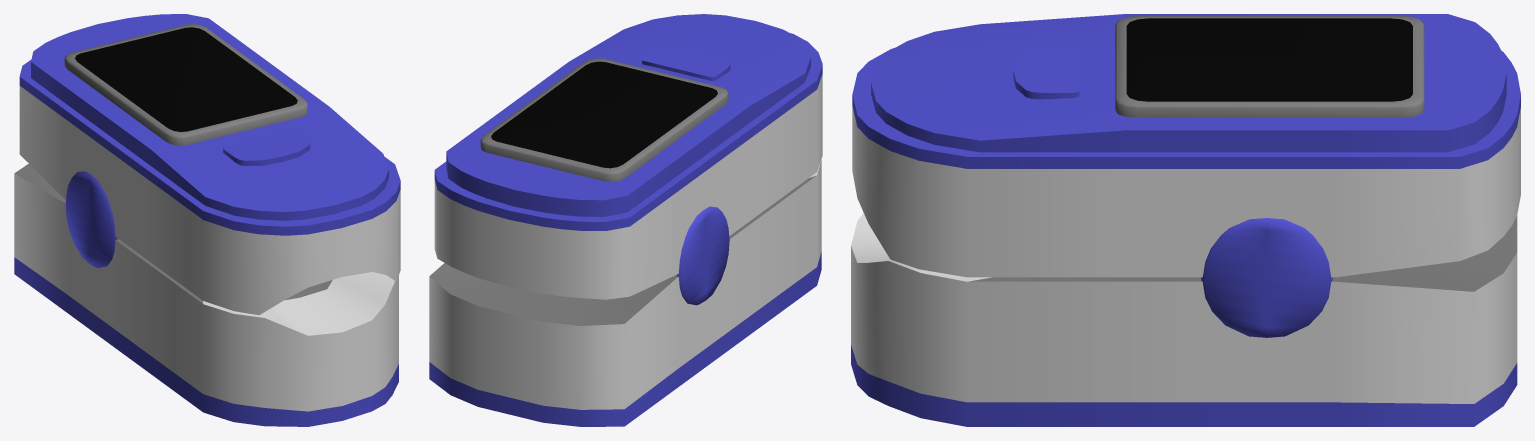
File: Model_Pulsioximetro.fbx
3 views of the same model, side by side, from view 1: azimuth 30°, elevation 25°; view 2: azimuth 150°, elevation 25°; view 3: azimuth 270°, elevation 25° (orthographic). The views are drawn at different scales.
Parts seen in each view (by area): view 1: Model_Pulsi_Top, Model_Pulsi_Bot, Model_Pulsi_Top_Screen, odel_Pulsi_Axis; view 2: Model_Pulsi_Top, Model_Pulsi_Bot, Model_Pulsi_Top_Screen, odel_Pulsi_Axis; view 3: Model_Pulsi_Top, Model_Pulsi_Bot, Model_Pulsi_Top_Screen, odel_Pulsi_Axis.
Boxes of the visible parts, <box> form: Model_Pulsi_Top: <box>19,14,400,315</box>; Model_Pulsi_Bot: <box>14,163,398,426</box>; Model_Pulsi_Top_Screen: <box>64,24,307,145</box>; odel_Pulsi_Axis: <box>65,171,117,267</box>; Model_Pulsi_Top: <box>434,14,822,299</box>; Model_Pulsi_Bot: <box>429,159,821,426</box>; Model_Pulsi_Top_Screen: <box>480,58,728,181</box>; odel_Pulsi_Axis: <box>676,206,729,305</box>; Model_Pulsi_Top: <box>852,14,1520,277</box>; Model_Pulsi_Bot: <box>851,213,1517,426</box>; Model_Pulsi_Top_Screen: <box>1115,15,1424,117</box>; odel_Pulsi_Axis: <box>1201,218,1332,337</box>.
Size of the model in its own units: 2.05 by 2.26 by 4.51.
